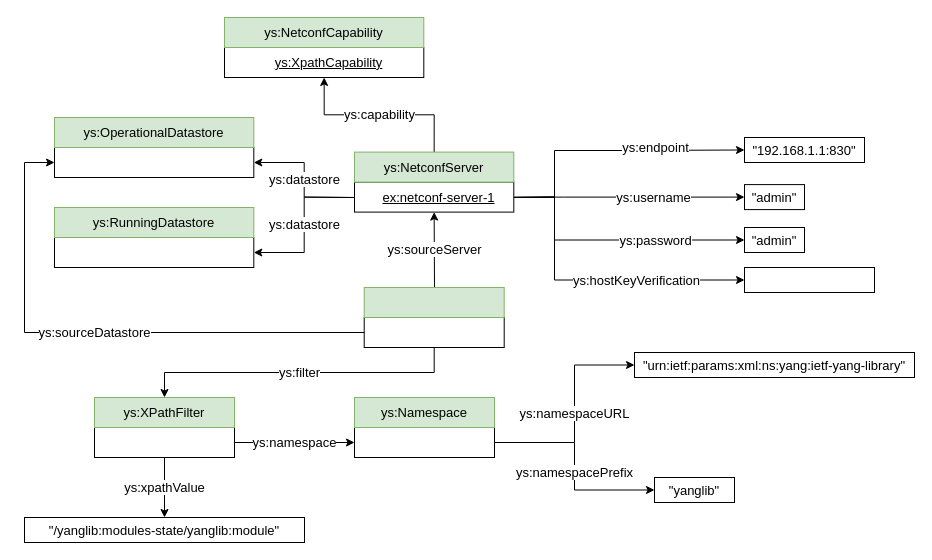
This 932x560 diagram has some shape labels left out. The centre of each missing label's shape, as x and y in pixels:
"false"^^xsd:boolean: pixel 809 279
ex:nc-1/operational: pixel 154 162
ex:nc-1/running: pixel 154 252
ex:ns-yanglib: pixel 424 442
ex:query-xpath: pixel 433 332
ex:xpath-filter: pixel 164 442
ys:Query: pixel 433 302
